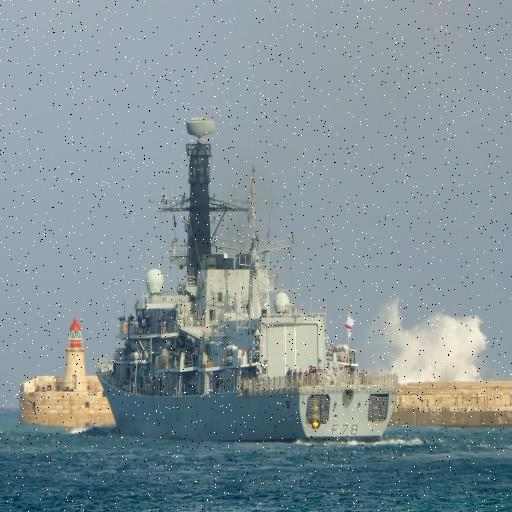Fragata: (92, 106, 400, 451)
